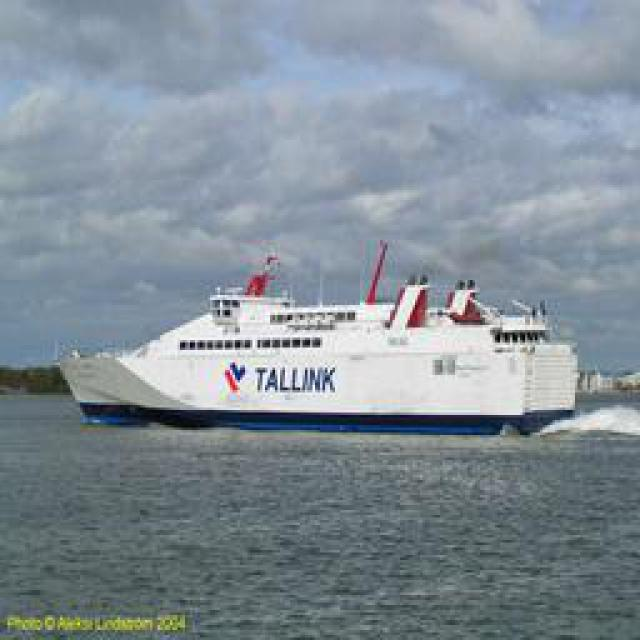Ship: (51, 242, 586, 440)
